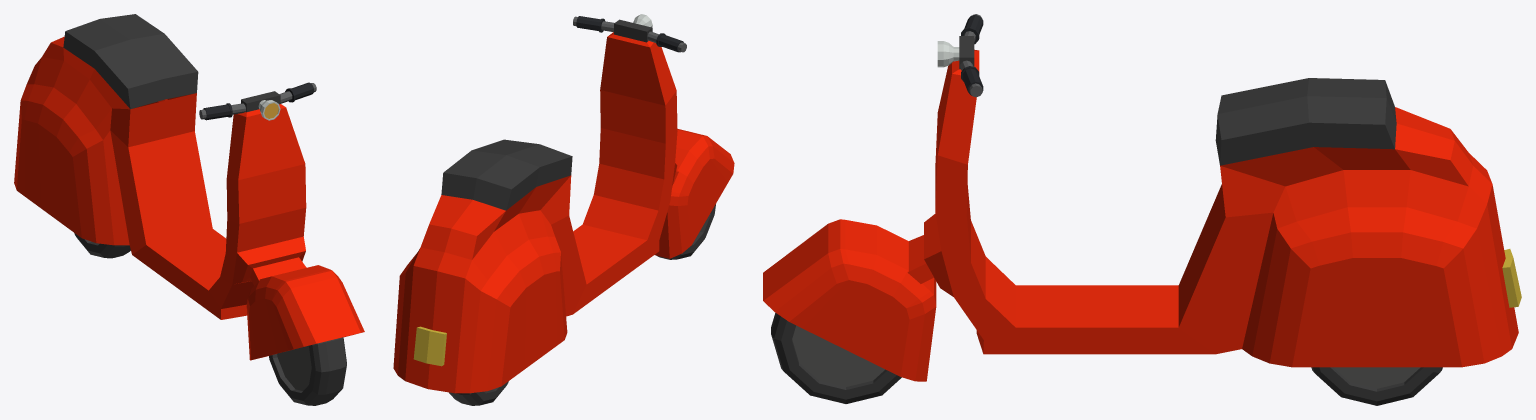
File: Scooter_1.fbx
3 renders of one model, left to right at view 1: azimuth 30°, elevation 25°; view 2: azimuth 150°, elevation 25°; view 3: azimuth 270°, elevation 25°, orthographic. The views are drawn at different scales.
Visible parts, largest first — view 1: Scooter_1; view 2: Scooter_1; view 3: Scooter_1.
Part boxes in pixels (x1,y1,x2,y2): Scooter_1: [14, 14, 364, 405]; Scooter_1: [393, 14, 734, 405]; Scooter_1: [763, 14, 1521, 405].
Size of the model in its own units: 71.22 by 164 by 314.
